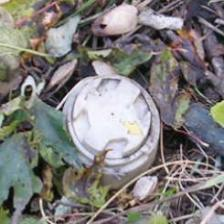M14: (68, 76, 156, 177)
